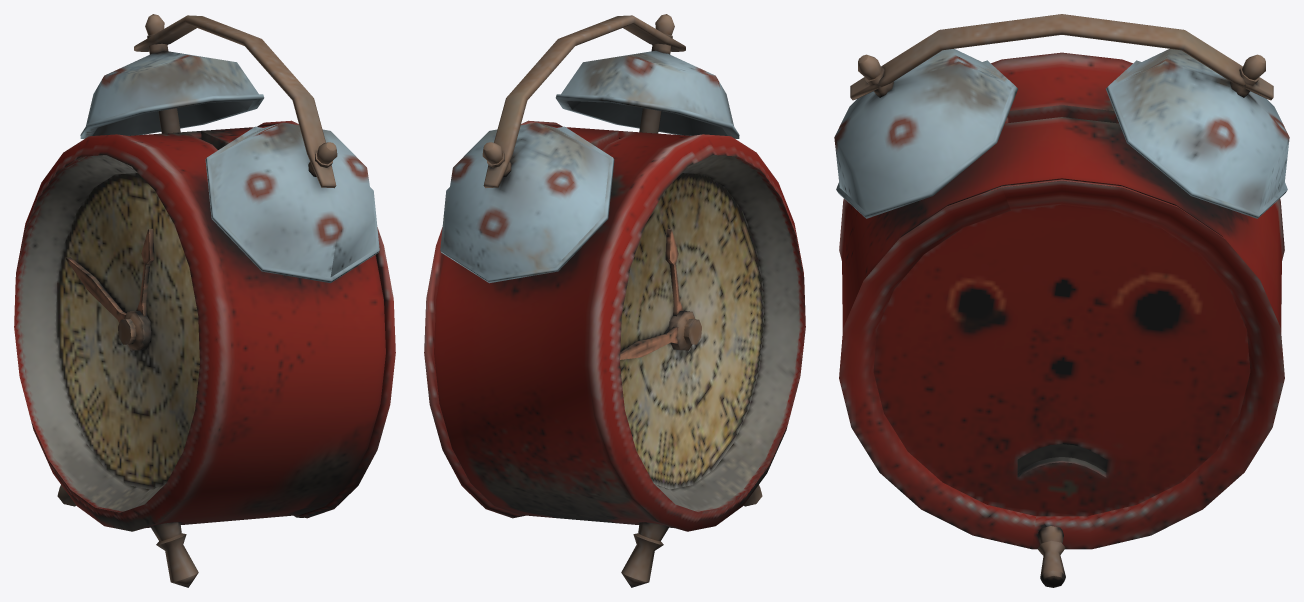
File: clock.fbx
3 views of the same model, side by side, from view 1: azimuth 30°, elevation 25°; view 2: azimuth 150°, elevation 25°; view 3: azimuth 270°, elevation 25° (orthographic). The views are drawn at different scales.
Parts seen in each view (by area): view 1: clock; view 2: clock; view 3: clock.
Boxes of the visible parts, <box> form: clock: <box>14,14,395,587</box>; clock: <box>424,14,805,587</box>; clock: <box>834,14,1289,587</box>.
Size of the model in its own units: 16.8 by 33.1 by 24.99.
Materials: 1 (1 with a texture image).
